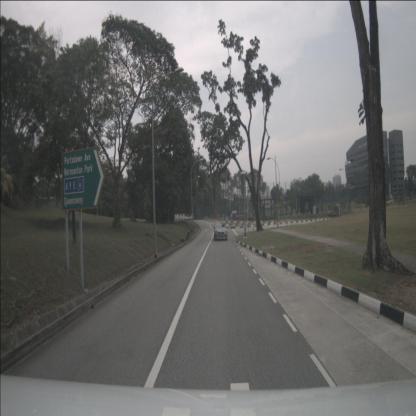vehicle-car: (213, 221, 228, 241)
